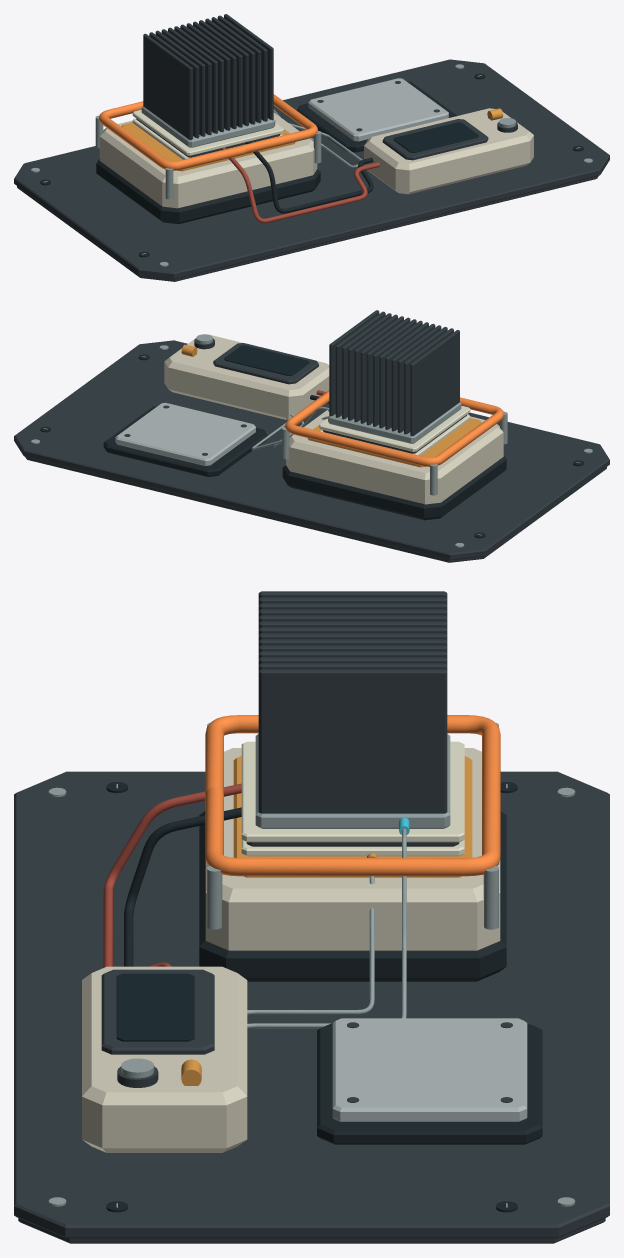
Rendered from p0_desk_kit_teg_heatsink.glb.
3 views of the same model, one above another, from view 1: azimuth 30°, elevation 25°; view 2: azimuth 150°, elevation 25°; view 3: azimuth 270°, elevation 25° (orthographic). The views are drawn at different scales.
Parts seen in each view (by area): view 1: Antistatic base, Removable fin module, Enclosed heater, Voltmeter and load, Spare flat plate, Burn guard, Electrical leads, Ceramic sandwich; view 2: Antistatic base, Removable fin module, Enclosed heater, Voltmeter and load, Spare flat plate, Burn guard, Ceramic sandwich, Hot and cold temperature probes; view 3: Antistatic base, Removable fin module, Enclosed heater, Voltmeter and load, Spare flat plate, Burn guard, Ceramic sandwich, Electrical leads, Hot and cold temperature probes.
Boxes of the visible parts, x1,y1,x2,y2 form: Antistatic base: [14, 59, 609, 281]; Removable fin module: [141, 14, 275, 147]; Enclosed heater: [96, 112, 320, 223]; Voltmeter and load: [364, 108, 533, 194]; Spare flat plate: [297, 78, 457, 152]; Burn guard: [95, 94, 321, 199]; Electrical leads: [221, 141, 379, 223]; Ceramic sandwich: [132, 109, 284, 159]; Antistatic base: [14, 340, 609, 562]; Removable fin module: [328, 310, 461, 443]; Enclosed heater: [282, 410, 506, 520]; Voltmeter and load: [164, 334, 329, 420]; Spare flat plate: [103, 402, 267, 476]; Burn guard: [282, 390, 507, 495]; Ceramic sandwich: [319, 405, 470, 455]; Hot and cold temperature probes: [251, 407, 329, 450]; Antistatic base: [14, 771, 609, 1243]; Removable fin module: [255, 591, 450, 828]; Enclosed heater: [199, 748, 506, 981]; Voltmeter and load: [82, 966, 247, 1152]; Spare flat plate: [317, 1018, 542, 1144]; Burn guard: [205, 715, 500, 929]; Ceramic sandwich: [241, 741, 464, 856]; Electrical leads: [103, 783, 241, 967]; Hot and cold temperature probes: [247, 817, 409, 1028].
Bounding box in the file's own units: 0.42 × 0.1283 × 0.2325.
